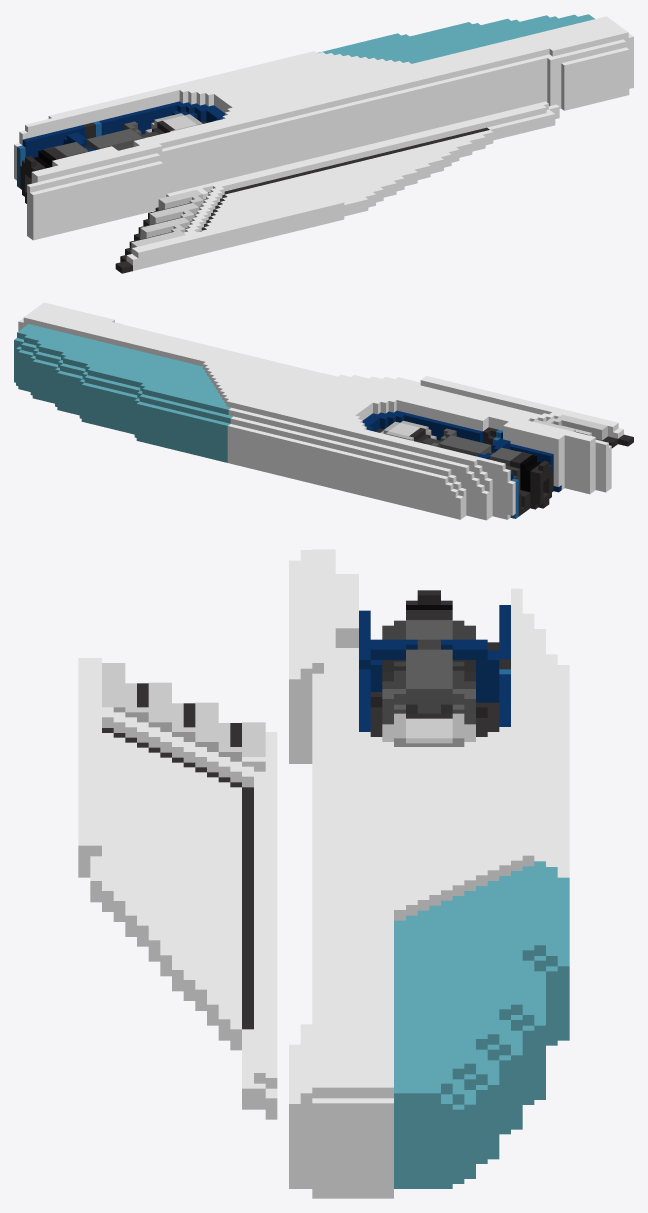
The model's file is ship.gltf.
3 renders of one model, top to bottom at view 1: azimuth 30°, elevation 25°; view 2: azimuth 150°, elevation 25°; view 3: azimuth 270°, elevation 25°, orthographic. The views are drawn at different scales.
Visible parts, largest first — view 1: img; view 2: img; view 3: img.
Boxes of the visible parts, x1,y1,x2,y2 form: img: (14, 14, 633, 273); img: (14, 302, 633, 520); img: (78, 549, 569, 1198).
Size of the model in its own units: 112 by 10 by 42.
Materials: 1 (1 with a texture image).
